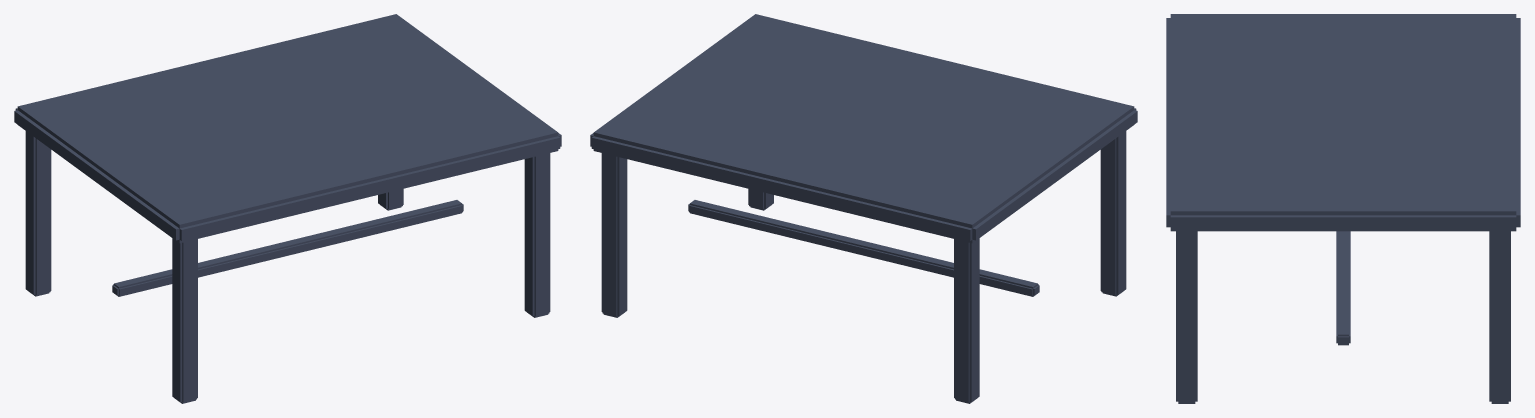
The model's file is granite_table_v0.glb.
The picture shows the model from 3 angles, left to right: view 1: azimuth 30°, elevation 25°; view 2: azimuth 150°, elevation 25°; view 3: azimuth 270°, elevation 25°; orthographic projection. The views are drawn at different scales.
Parts seen in each view (by area): view 1: granite_table_v0; view 2: granite_table_v0; view 3: granite_table_v0.
Boxes of the visible parts, x1,y1,x2,y2 form: granite_table_v0: (14,14,561,403); granite_table_v0: (590,14,1137,403); granite_table_v0: (1166,14,1520,403).
Bounding box in the file's own units: 1.96 × 0.89 × 1.46.
